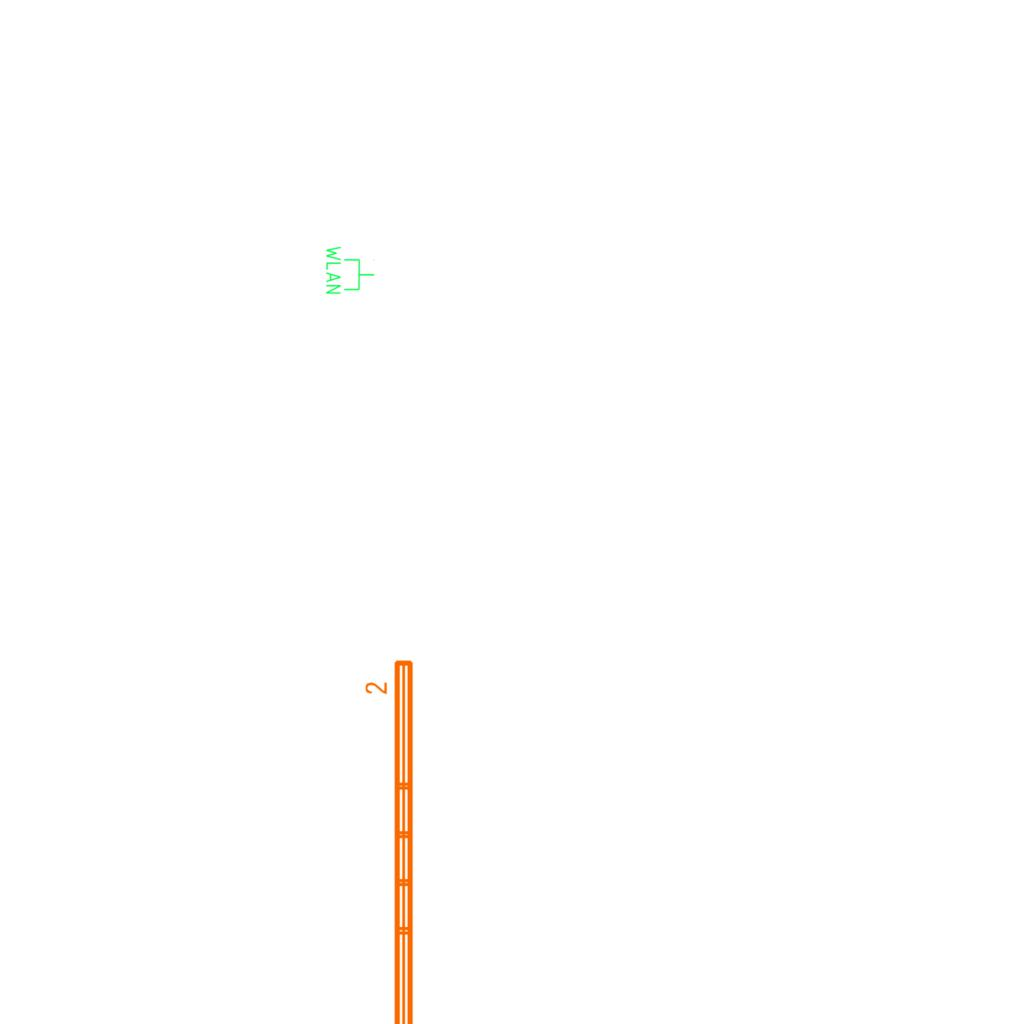Ambulanz_Pendelleuchte_LED: (363, 656, 419, 1024)
WLAN: (324, 244, 376, 296)
